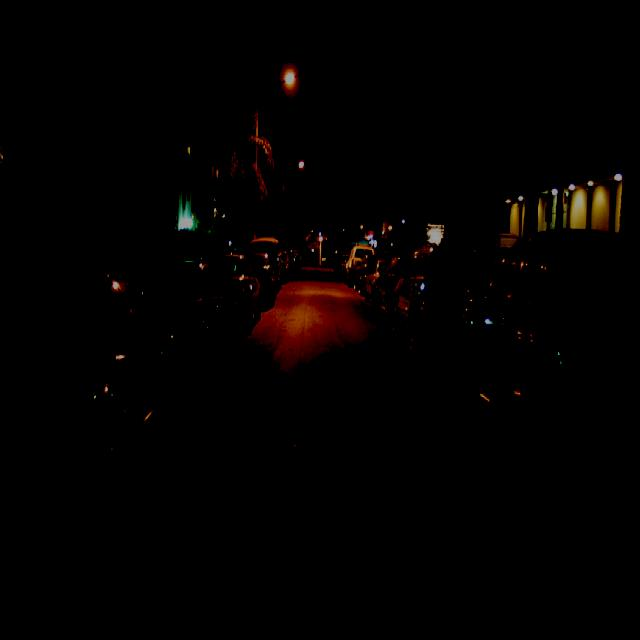Car: (450, 224, 640, 508), (0, 264, 191, 525), (390, 243, 498, 357), (149, 253, 241, 363), (208, 246, 262, 326), (377, 255, 408, 313)
